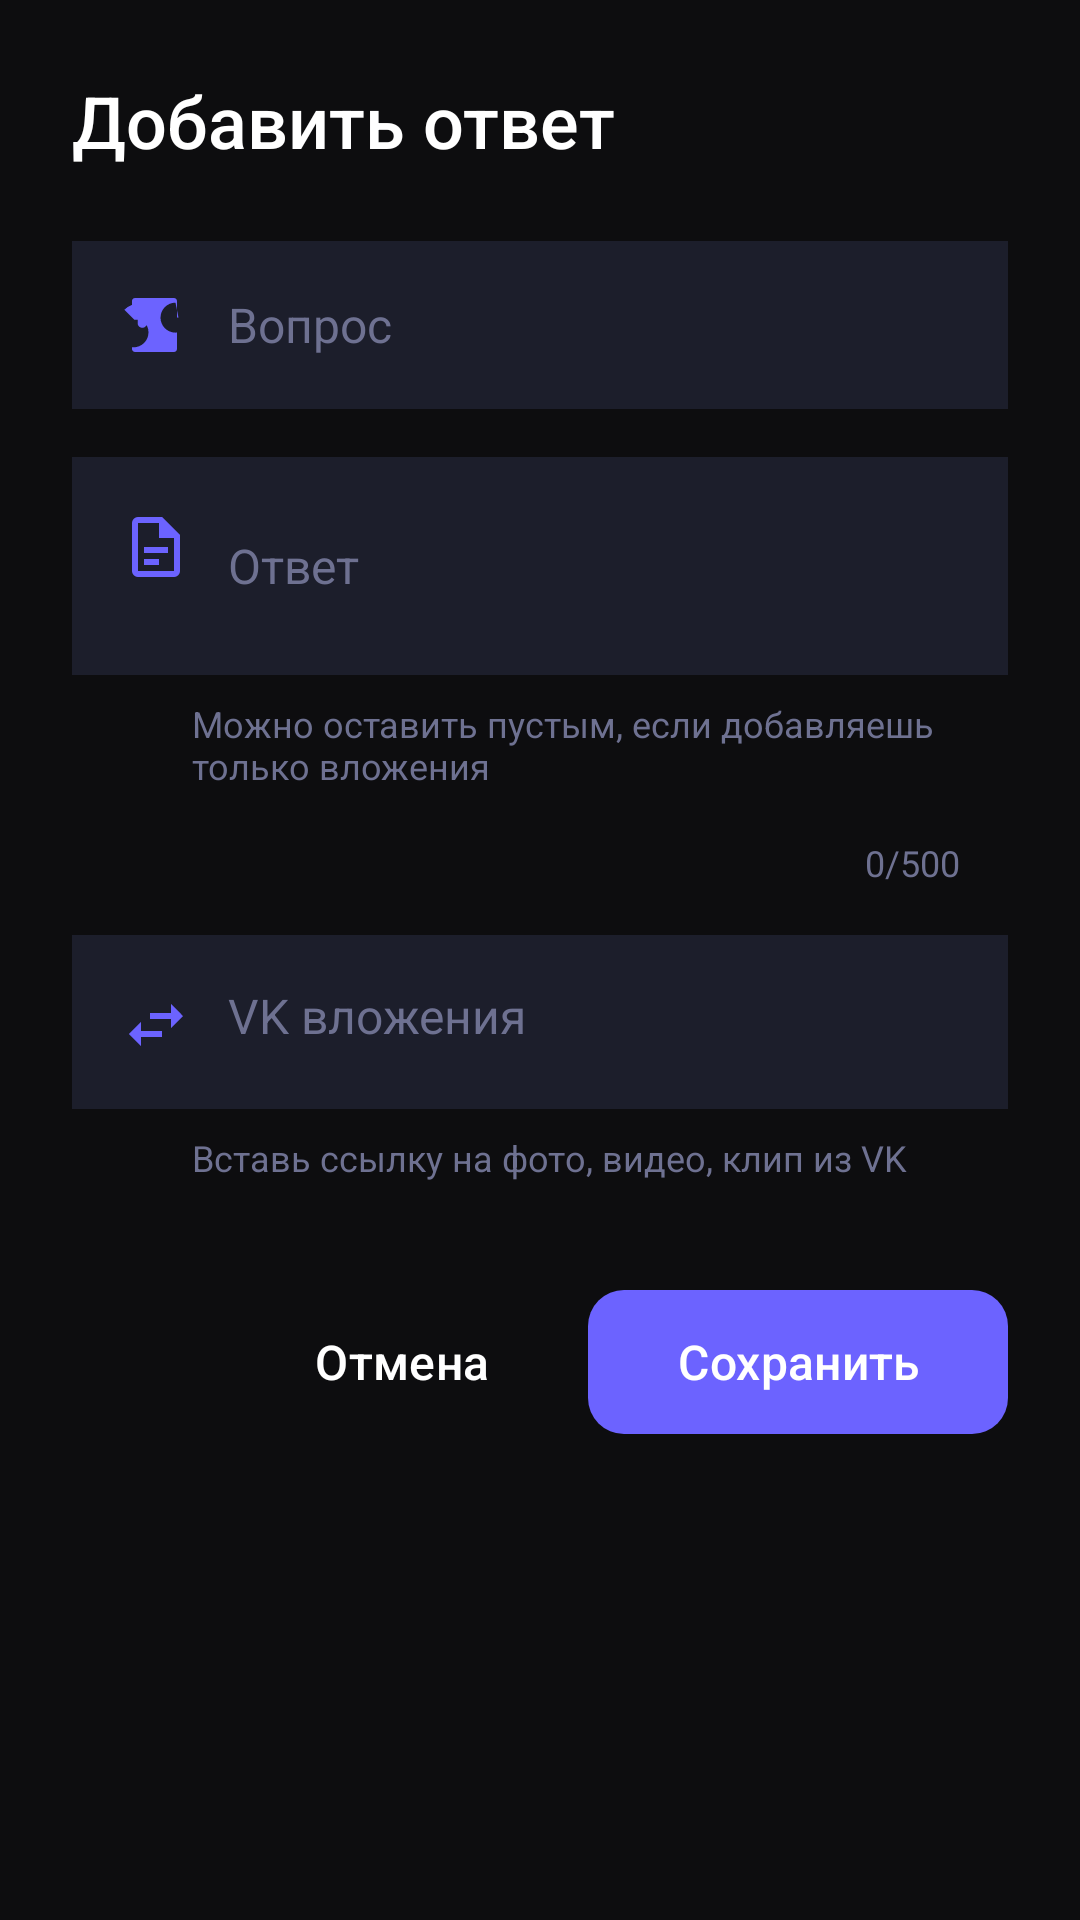

Where icons sit on this 1080px x 1920px app screen, as (x1, y1, x2, y2):
swipe: (129, 1004, 183, 1046)
